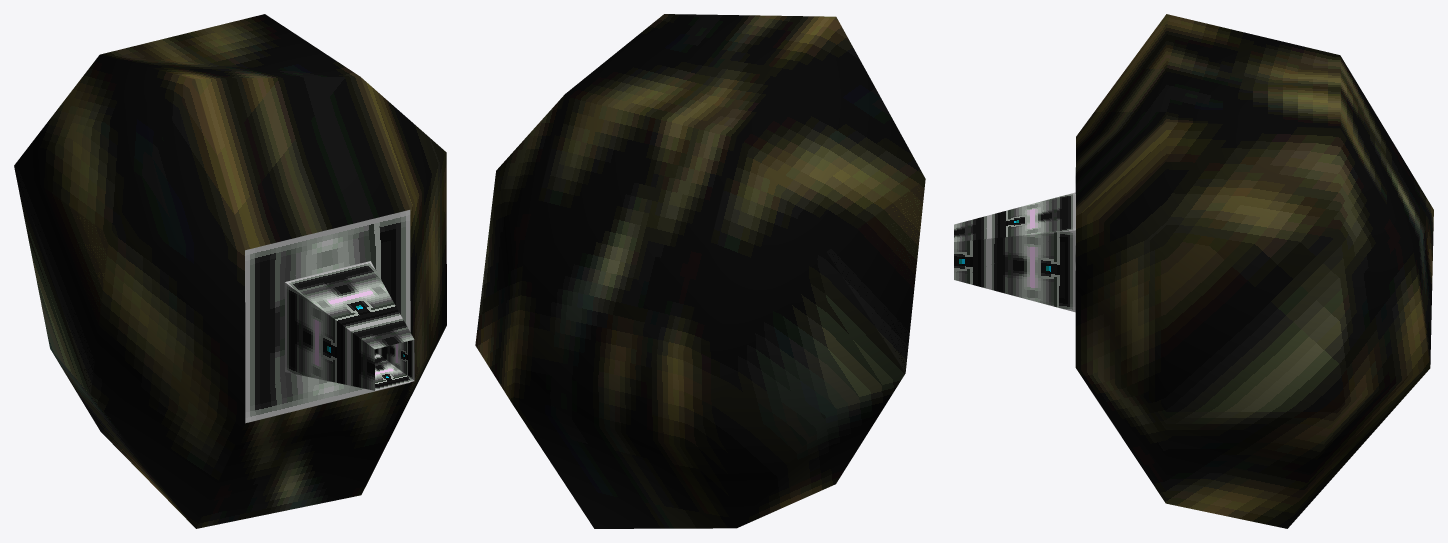
The model's file is laser cannon.dae.
The picture shows the model from 3 angles, left to right: view 1: azimuth 30°, elevation 25°; view 2: azimuth 150°, elevation 25°; view 3: azimuth 270°, elevation 25°; orthographic projection. The views are drawn at different scales.
Visible parts, largest first — view 1: fakerock, silver; view 2: fakerock; view 3: fakerock, silver.
Boxes of the visible parts, left/top/right/bottom form: fakerock: left=14, top=14, right=446, bottom=528; silver: left=245, top=210, right=414, bottom=423; fakerock: left=475, top=14, right=925, bottom=528; fakerock: left=1075, top=14, right=1433, bottom=528; silver: left=954, top=167, right=1075, bottom=312.
Bounding box in the file's own units: 102 × 140 × 138.
2 materials, 2 textured.
